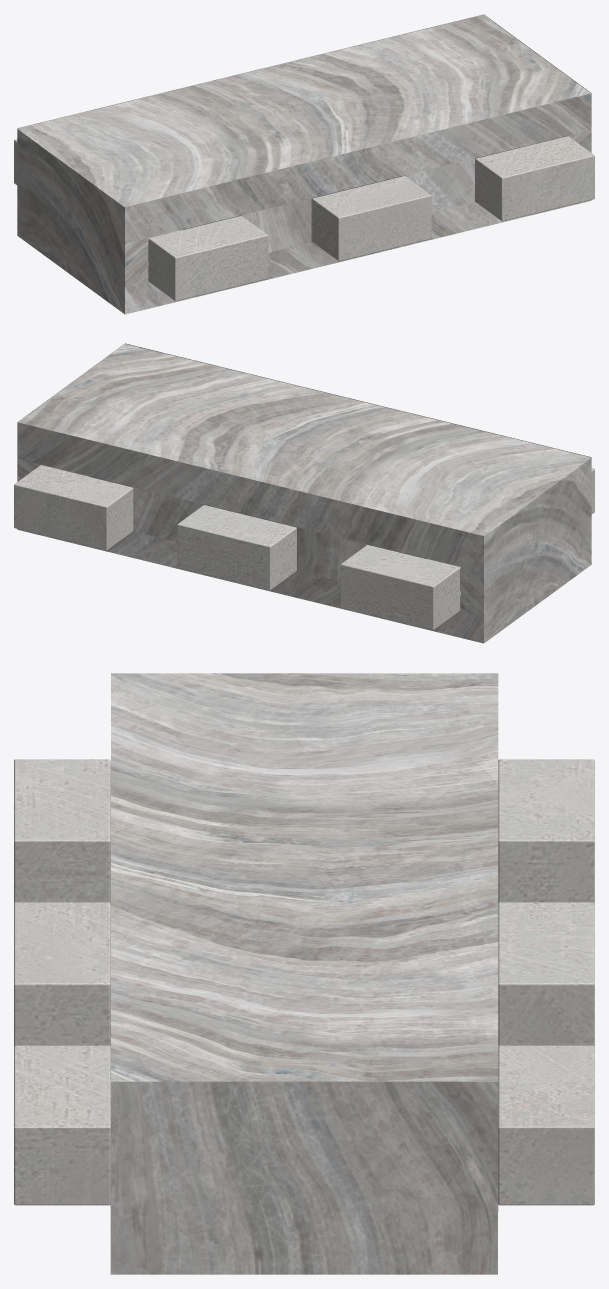
The model's file is CAPSULAS_OPACO.fbx.
3 views of the same model, one above another, from view 1: azimuth 30°, elevation 25°; view 2: azimuth 150°, elevation 25°; view 3: azimuth 270°, elevation 25° (orthographic). The views are drawn at different scales.
Parts seen in each view (by area): view 1: Cap_Techo, Cap_Pared_S_FranjaSup, Cap_Capsula_S_x-35, Cap_Capsula_S_x+0, Cap_Capsula_S_x+35, Cap_Pared_S_FranjaInf, Cap_Pared_S_Panel_2, Cap_Pared_S_Panel_3, Cap_Pared_S_Panel_1, Cap_Pared_N_FranjaSup; view 2: Cap_Techo, Cap_Pared_N_FranjaSup, Cap_Capsula_N_x-35, Cap_Capsula_N_x+0, Cap_Capsula_N_x+35, Cap_Pared_N_FranjaInf, Cap_Pared_N_Panel_2, Cap_Pared_N_Panel_3, Cap_Pared_N_Panel_1, Cap_Pared_S_FranjaSup; view 3: Cap_Techo, Cap_ParedE_sup, Cap_Capsula_N_x+35, Cap_Capsula_S_x+35, Cap_Capsula_N_x+0, Cap_Capsula_N_x-35, Cap_Capsula_S_x+0, Cap_Capsula_S_x-35.
Part boxes in pixels (x1=…): Cap_Techo: x1=17, y1=15, x2=590, y2=314; Cap_Pared_S_FranjaSup: x1=125, y1=93, x2=591, y2=243; Cap_Capsula_S_x-35: x1=148, y1=215, x2=268, y2=301; Cap_Capsula_S_x+0: x1=312, y1=176, x2=431, y2=261; Cap_Capsula_S_x+35: x1=475, y1=136, x2=594, y2=221; Cap_Pared_S_FranjaInf: x1=125, y1=200, x2=591, y2=314; Cap_Pared_S_Panel_2: x1=241, y1=198, x2=311, y2=252; Cap_Pared_S_Panel_3: x1=405, y1=158, x2=474, y2=212; Cap_Pared_S_Panel_1: x1=125, y1=238, x2=148, y2=287; Cap_Pared_N_FranjaSup: x1=17, y1=14, x2=483, y2=128; Cap_Techo: x1=18, y1=344, x2=591, y2=643; Cap_Pared_N_FranjaSup: x1=17, y1=422, x2=483, y2=572; Cap_Capsula_N_x-35: x1=340, y1=544, x2=460, y2=630; Cap_Capsula_N_x+0: x1=177, y1=505, x2=296, y2=590; Cap_Capsula_N_x+35: x1=14, y1=465, x2=133, y2=550; Cap_Pared_N_FranjaInf: x1=17, y1=529, x2=483, y2=643; Cap_Pared_N_Panel_2: x1=297, y1=527, x2=367, y2=581; Cap_Pared_N_Panel_3: x1=134, y1=487, x2=203, y2=541; Cap_Pared_N_Panel_1: x1=460, y1=567, x2=483, y2=616; Cap_Pared_S_FranjaSup: x1=125, y1=343, x2=591, y2=457; Cap_Techo: x1=111, y1=673, x2=498, y2=1081; Cap_ParedE_sup: x1=110, y1=1081, x2=498, y2=1274; Cap_Capsula_N_x+35: x1=498, y1=1045, x2=594, y2=1205; Cap_Capsula_S_x+35: x1=14, y1=1045, x2=110, y2=1205; Cap_Capsula_N_x+0: x1=498, y1=902, x2=594, y2=1046; Cap_Capsula_N_x-35: x1=498, y1=759, x2=594, y2=902; Cap_Capsula_S_x+0: x1=14, y1=902, x2=110, y2=1046; Cap_Capsula_S_x-35: x1=14, y1=759, x2=110, y2=902.
Bounding box in the file's own units: 1000 × 220 × 600.
Materials: 7 (7 with a texture image).
